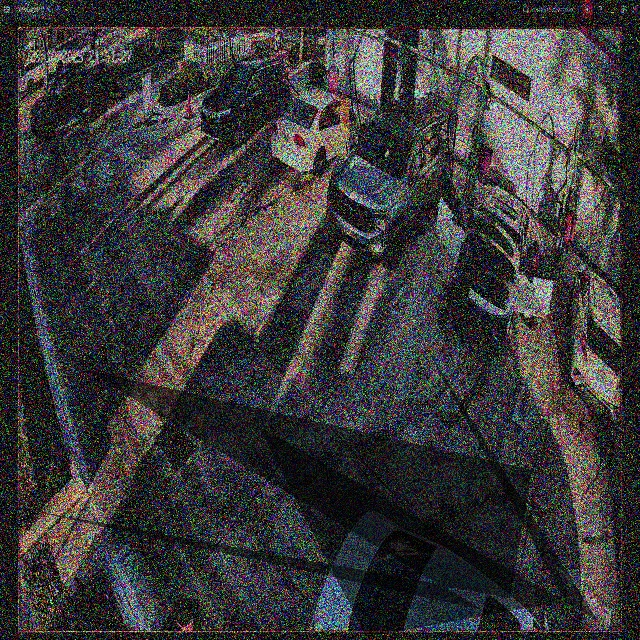Car: (330, 99, 452, 268), (441, 181, 553, 340), (272, 89, 367, 173)
